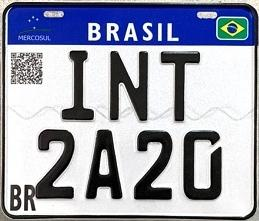Placa_mercosul_carro: (5, 4, 254, 215)
